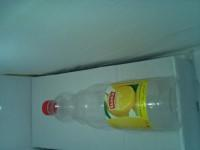bottle: (41, 76, 178, 134)
